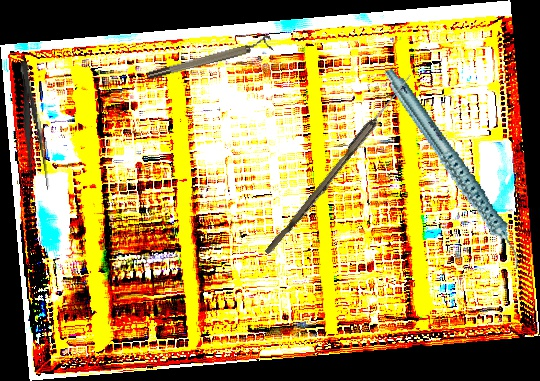Dressing Forceps: (12, 58, 53, 193)
Fixation Ring: (145, 34, 274, 82)
Handpiece: (382, 49, 525, 289)
Surgical Spoon: (264, 70, 415, 259)
